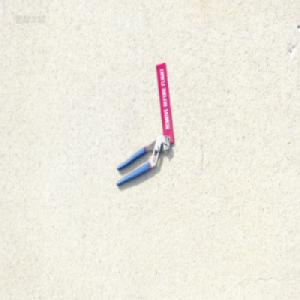Label: (156, 62, 175, 144)
Pliers: (116, 133, 171, 187)
